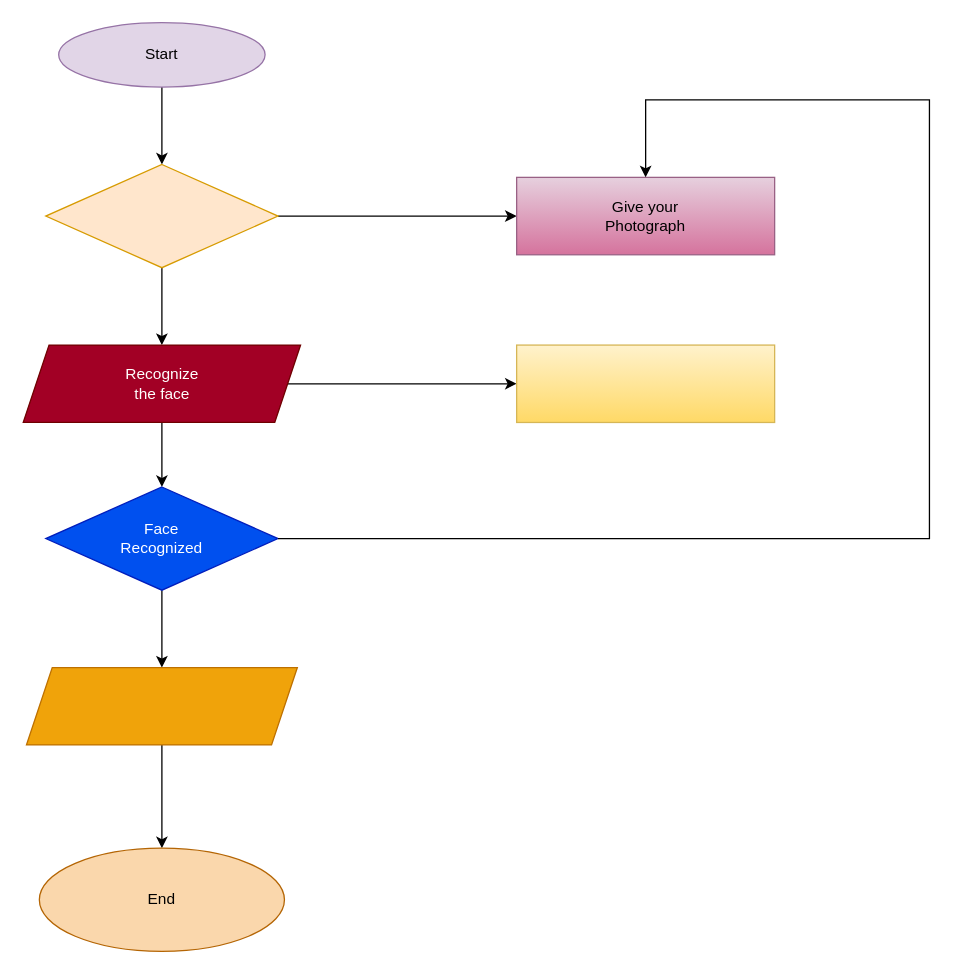
Some shapes in this 962 by 974 pixel diagram are drawn without their labels. Each missing label, with the centre of its shape:
"New User?" goes at pixel 161 215.
"Store the face data in folder on your name" goes at pixel 645 383.
"Stored in csv file with Registratio Number & Data .Time of Entry" goes at pixel 161 705.
